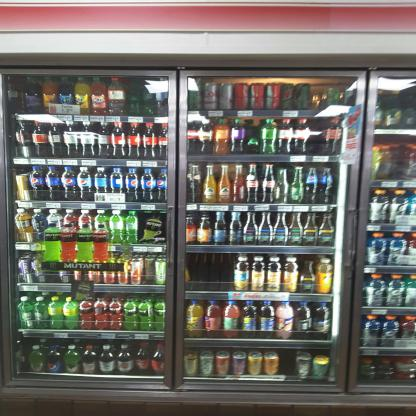Void: (189, 252, 229, 286), (311, 117, 326, 156), (277, 349, 294, 372)
